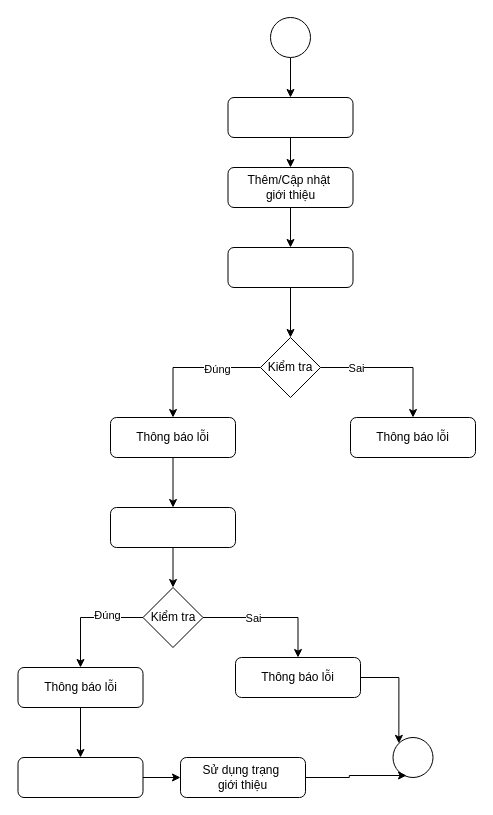
Image size: 493x815. Some labels were removed from this diagram. The box of each missing label's shape, as (x1, y1, x2, y2) in pixels:
Danh sách giới thiệu: (227, 96, 353, 138)
Lưu giới thiệu: (110, 506, 236, 548)
Lấy dữ liệu mới: (17, 756, 143, 798)
Nhập dữ liệu: (227, 246, 353, 288)
